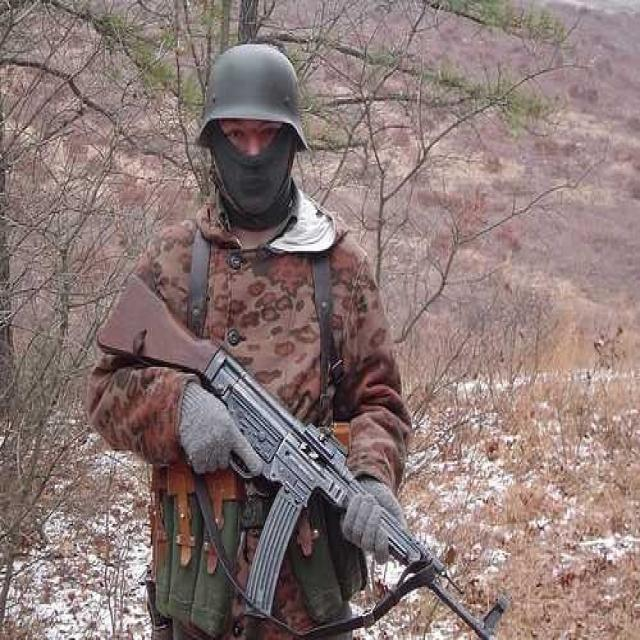heavyweapon: (93, 258, 513, 640)
